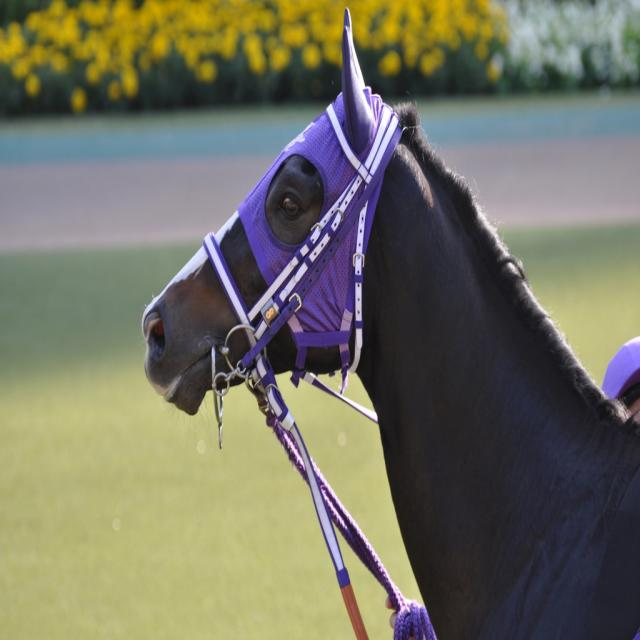Horse: (136, 7, 640, 640)
